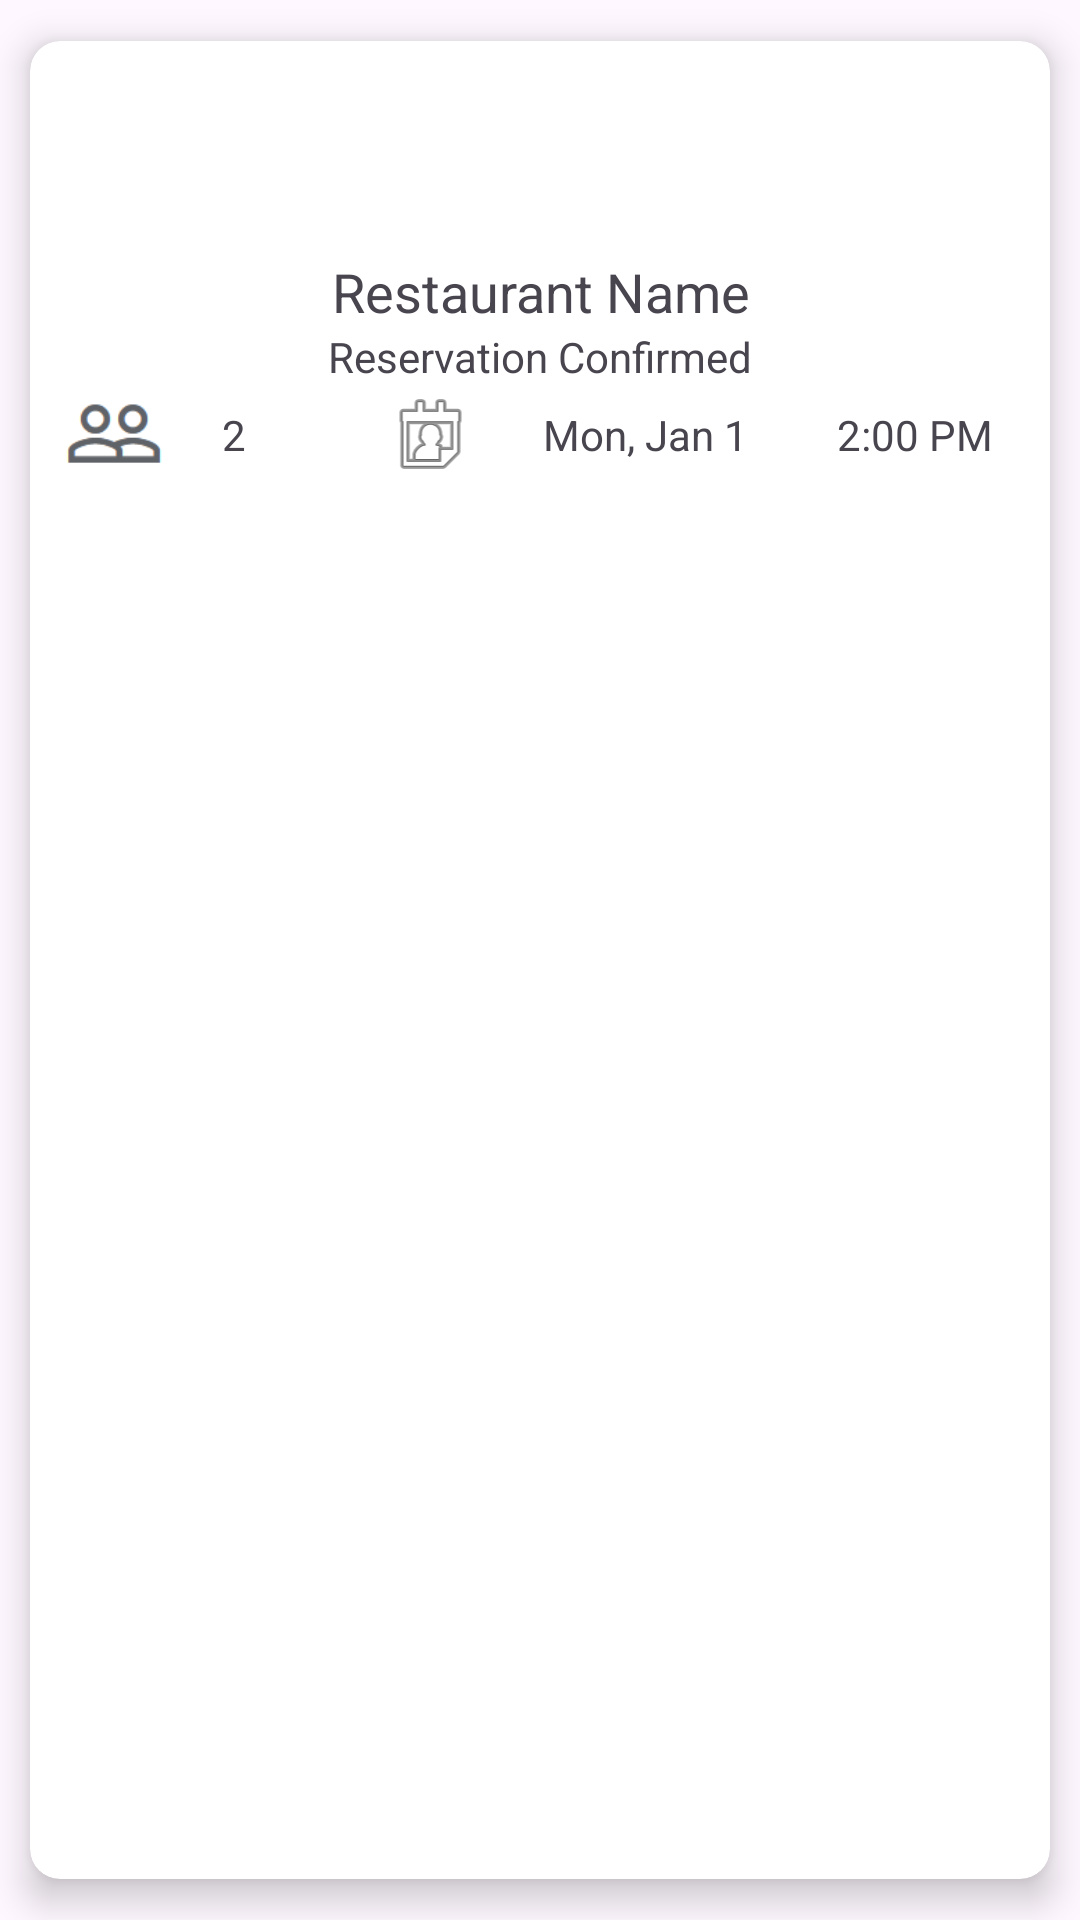

Icons on this 1080*1920 Android screen, each with its box as (x1=x1, y1=y1, x2=x2, y2=y2):
Date Icon: (x1=399, y1=399, x2=462, y2=469)
Party Icon: (x1=67, y1=404, x2=161, y2=463)
